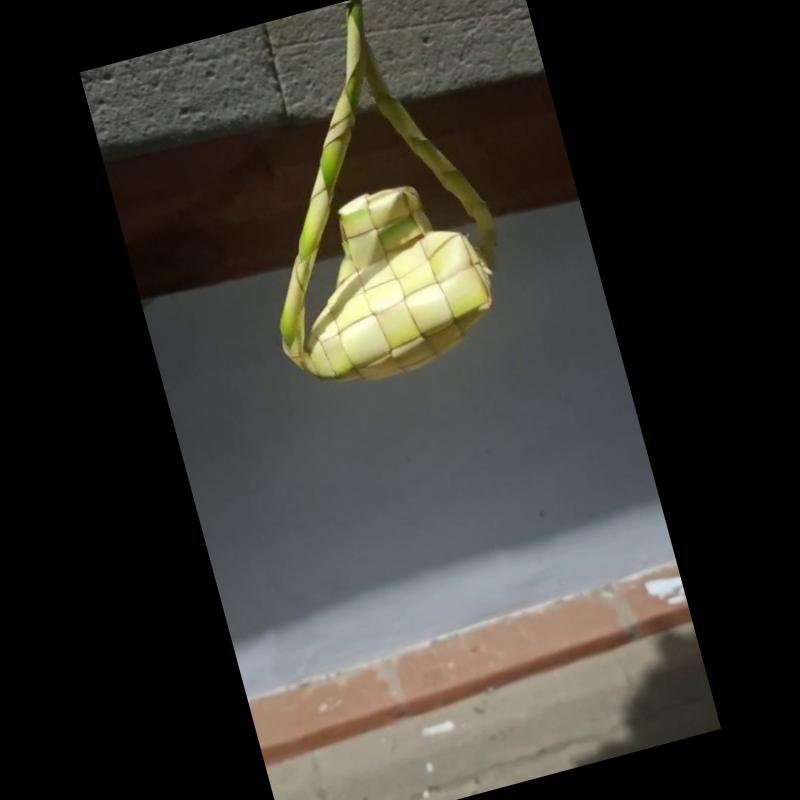Tipat Gong: (274, 0, 493, 379)
